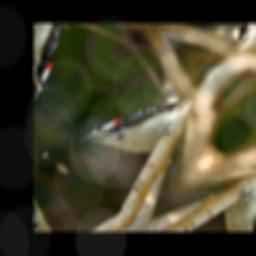Woodpecker: (77, 53, 212, 181)
